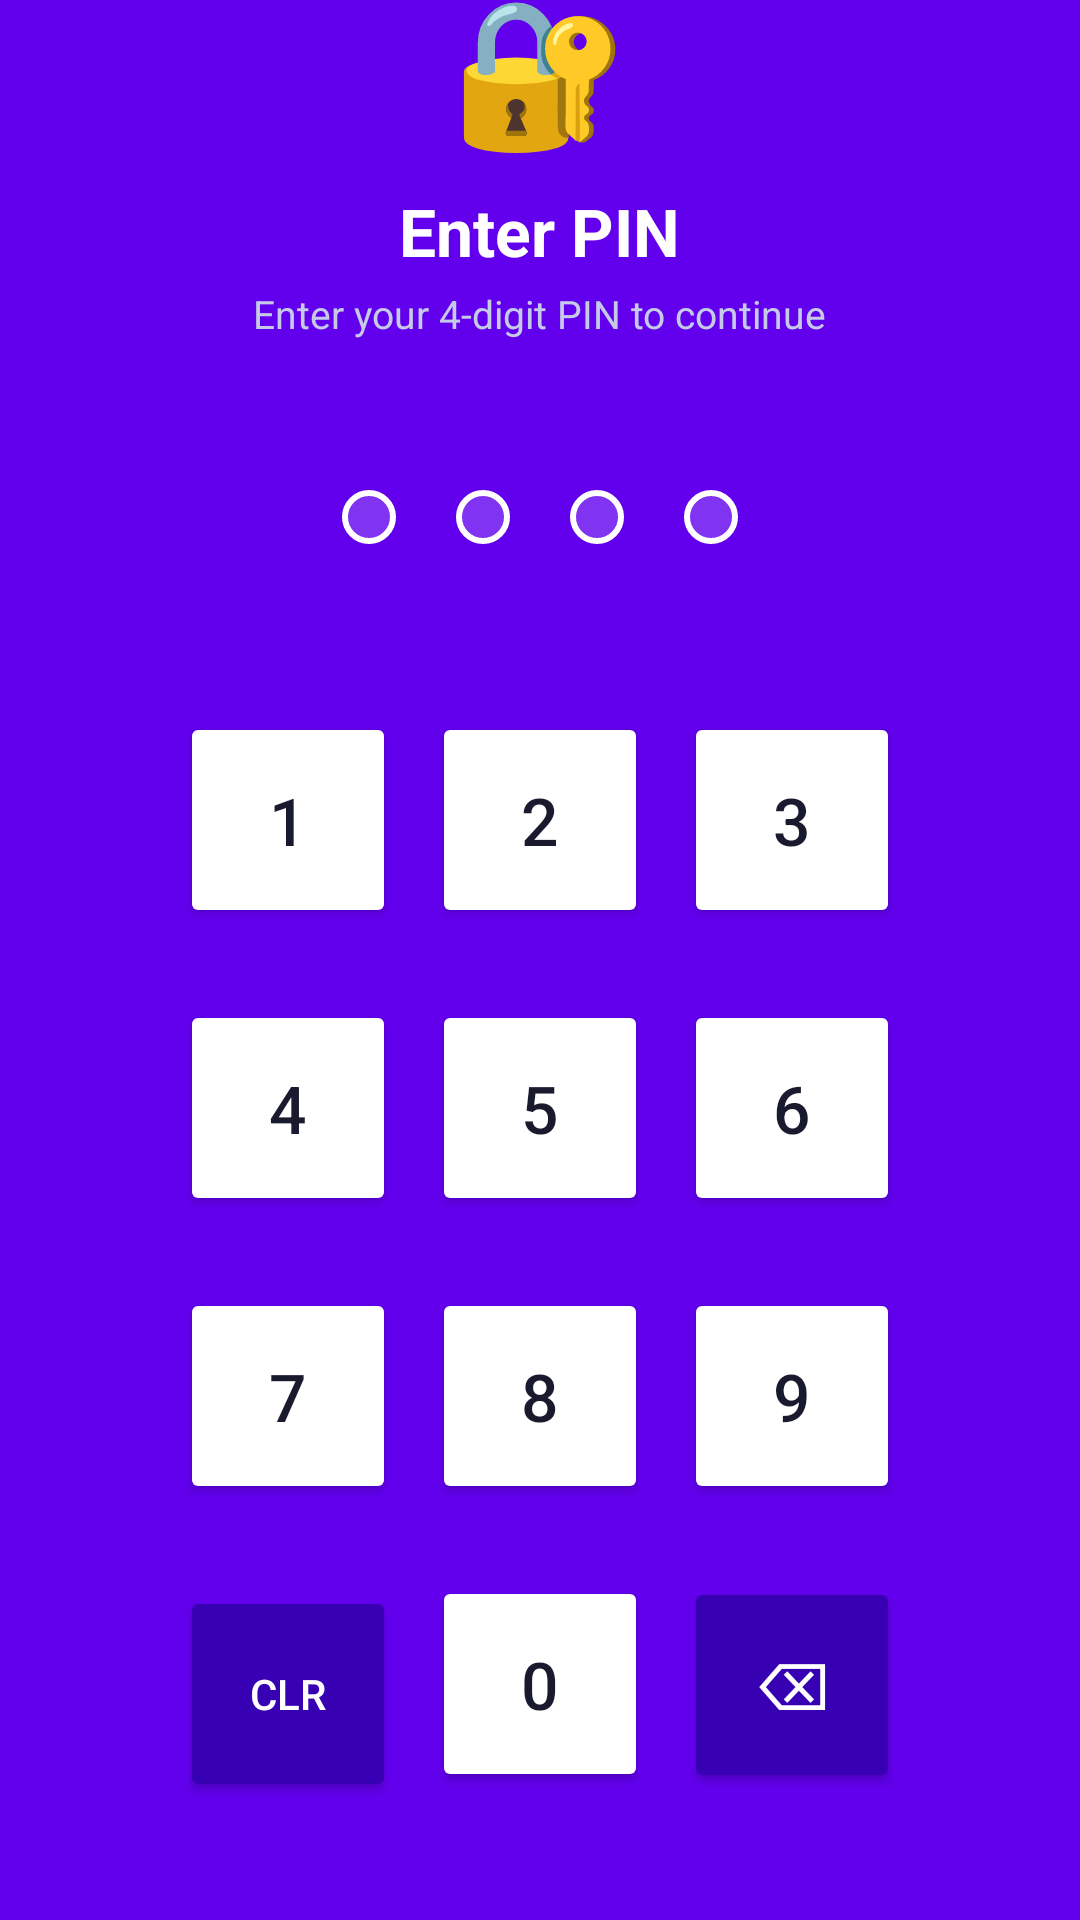

Where icons sit on this 1080*1920 app screen, as detection(x1, y1, x2, y2):
pin dot empty: detection(342, 490, 396, 544), detection(456, 490, 510, 544), detection(570, 490, 624, 544), detection(684, 490, 738, 544)
